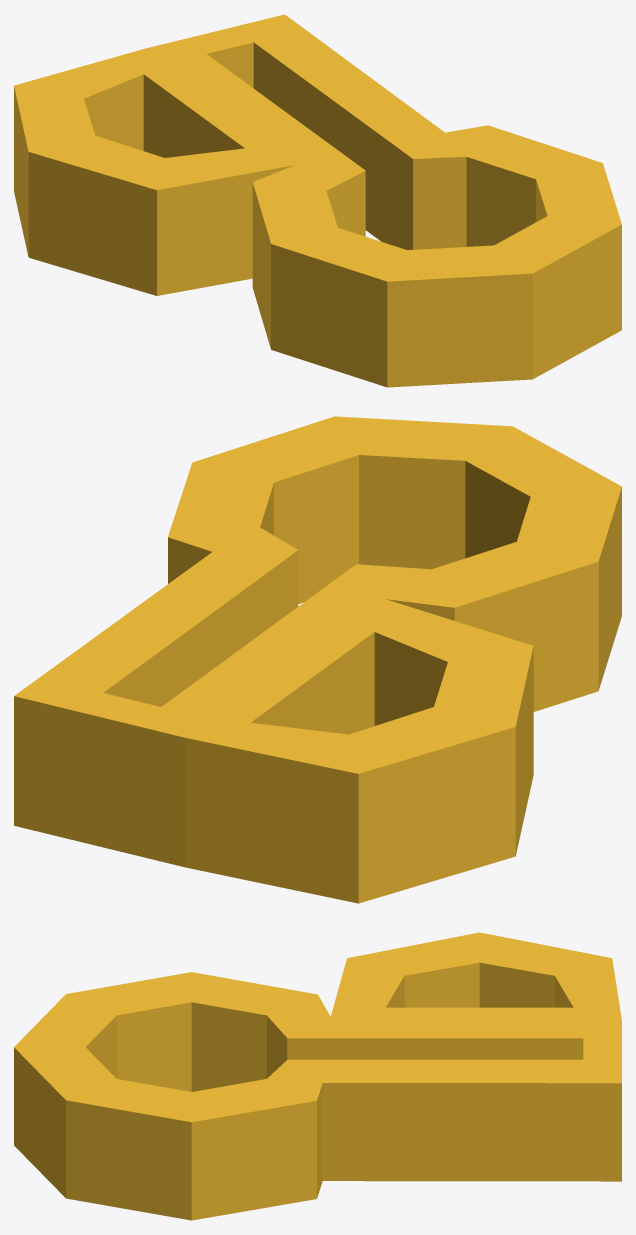
Rendered from Asset_KeyFragment3.fbx.
3 views of the same model, one above another, from view 1: azimuth 30°, elevation 25°; view 2: azimuth 150°, elevation 25°; view 3: azimuth 270°, elevation 25° (orthographic). The views are drawn at different scales.
Visible parts, largest first — view 1: Asset_KeyFragment3; view 2: Asset_KeyFragment3; view 3: Asset_KeyFragment3.
Boxes of the visible parts, x1,y1,x2,y2 form: Asset_KeyFragment3: (14, 14, 621, 387); Asset_KeyFragment3: (14, 416, 621, 903); Asset_KeyFragment3: (14, 932, 621, 1220).
Bounding box in the file's own units: 25.21 × 6.08 × 34.11.
